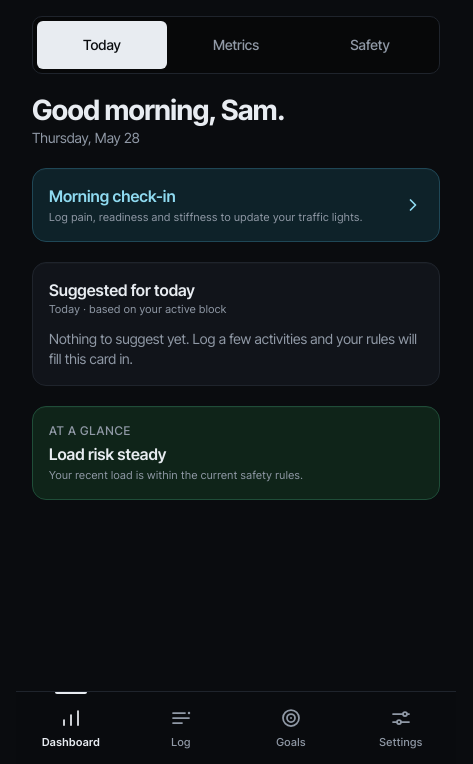
Test case: App shell (F1.1) › navigates to Log History when Log tab is selected
Click the button "Log" at (181, 728), box x1=126 y1=692 x2=236 y2=763
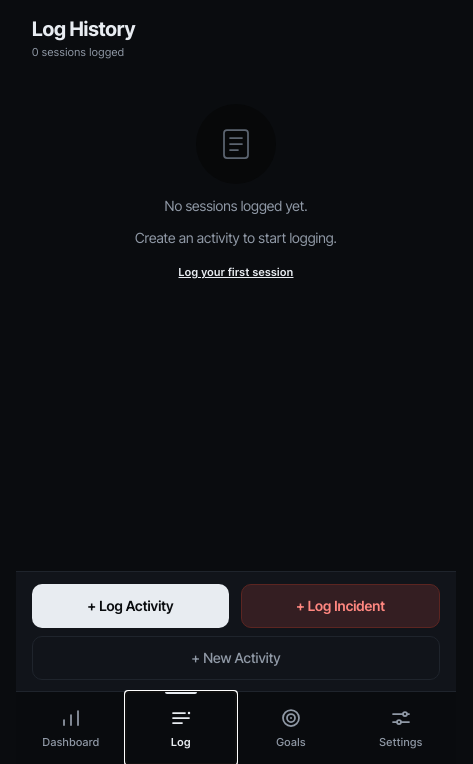
Expected: the heading "Log History" is shown, x1=32 y1=17 x2=135 y2=41
